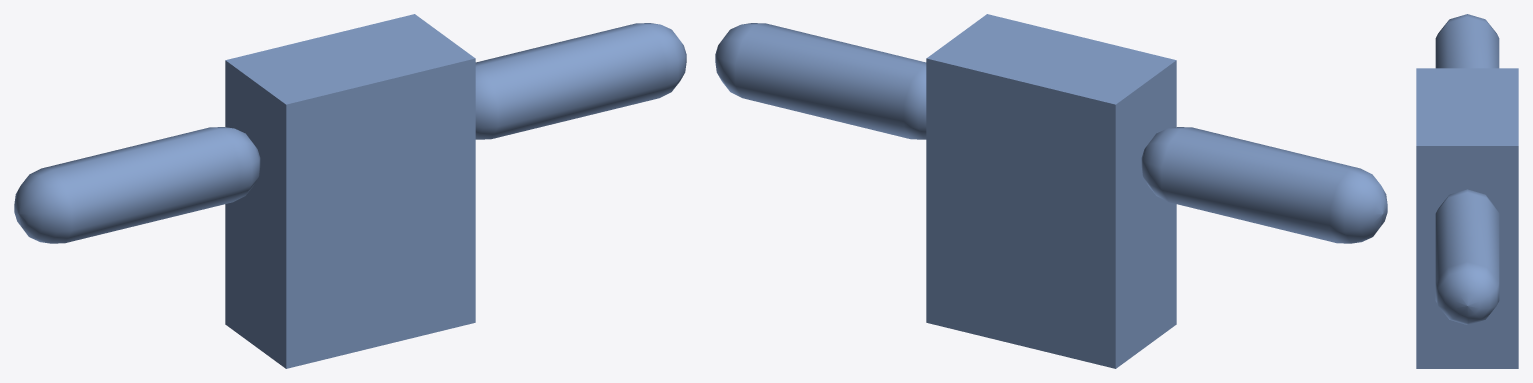
File: denim-shirt.glb
The picture shows the model from 3 angles, left to right: view 1: azimuth 30°, elevation 25°; view 2: azimuth 150°, elevation 25°; view 3: azimuth 270°, elevation 25°; orthographic projection. The views are drawn at different scales.
Visible parts, largest first — view 1: denim_shirt_torso, denim_shirt_sleeve_L, denim_shirt_sleeve_R; view 2: denim_shirt_torso, denim_shirt_sleeve_L, denim_shirt_sleeve_R; view 3: denim_shirt_torso, denim_shirt_sleeve_R, denim_shirt_sleeve_L.
Part boxes in pixels (box(x1,y1,x2,y2)): denim_shirt_torso: box(225, 14, 475, 368); denim_shirt_sleeve_L: box(14, 127, 260, 243); denim_shirt_sleeve_R: box(475, 23, 686, 139); denim_shirt_torso: box(926, 14, 1176, 368); denim_shirt_sleeve_L: box(1141, 127, 1387, 243); denim_shirt_sleeve_R: box(715, 23, 926, 139); denim_shirt_torso: box(1416, 68, 1518, 368); denim_shirt_sleeve_R: box(1435, 189, 1499, 324); denim_shirt_sleeve_L: box(1435, 14, 1499, 68).
Size of the model in its own units: 1.26 by 0.48 by 0.2.
